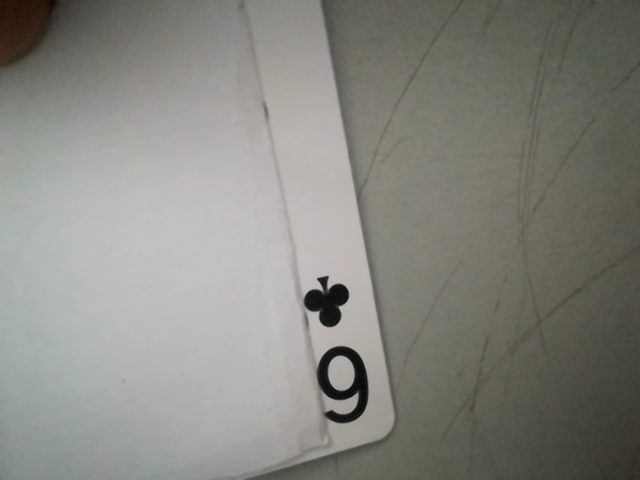mh 6: (294, 268, 384, 438)
